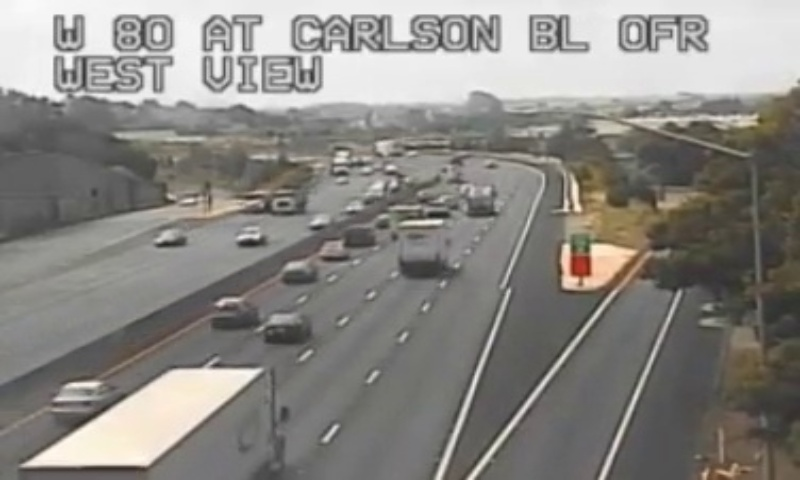car: (48, 378, 121, 418), (210, 297, 257, 330), (266, 313, 307, 343), (280, 261, 314, 285), (319, 240, 346, 261)
small-truck: (399, 220, 446, 272)
truck: (17, 366, 276, 480)
